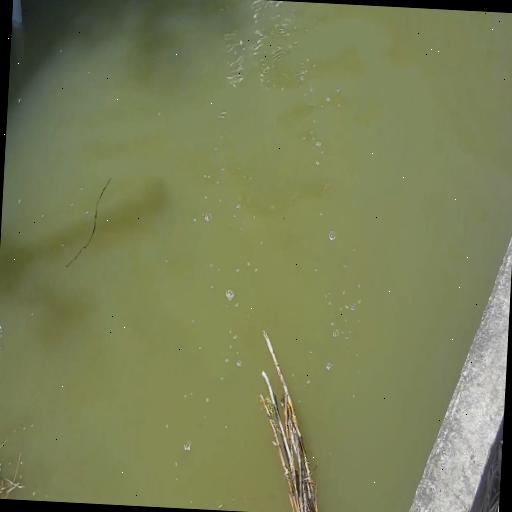twig: (249, 317, 337, 512), (0, 434, 32, 500)
